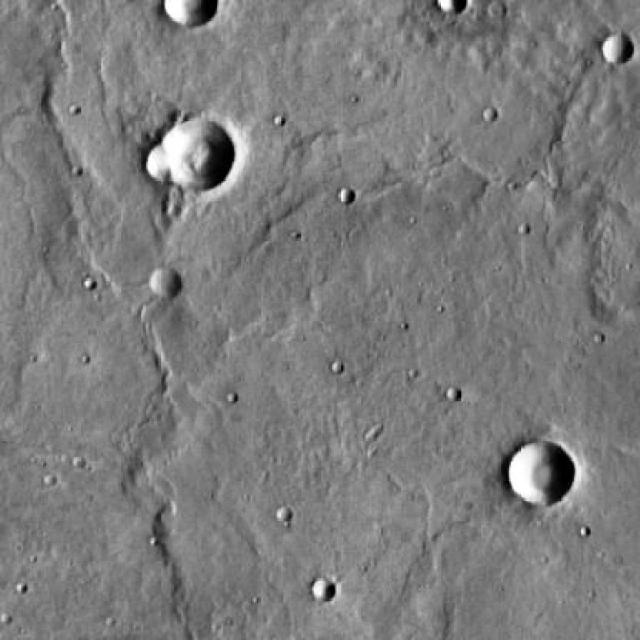crater: (147, 175, 638, 639), (154, 121, 229, 194), (502, 444, 570, 510), (158, 0, 215, 31), (140, 145, 177, 181), (602, 34, 635, 66), (152, 268, 183, 298), (309, 578, 333, 602), (435, 0, 466, 18)
